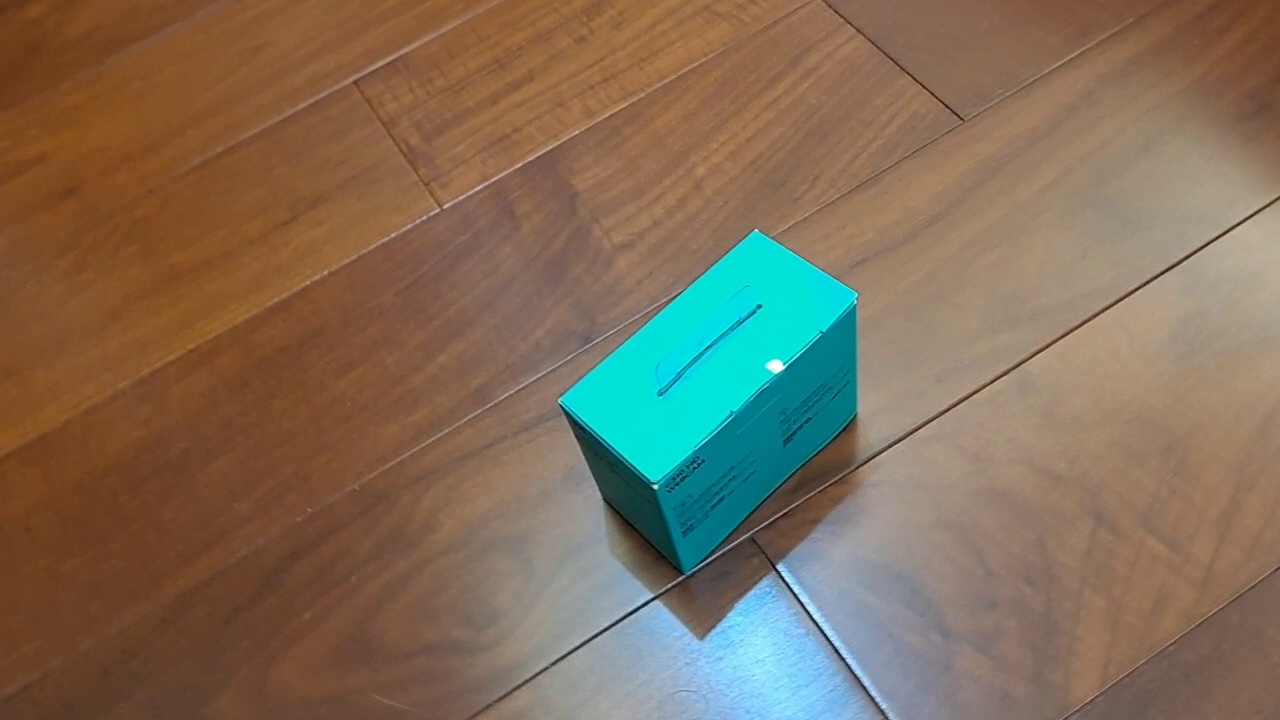webcam: (555, 225, 860, 577)
